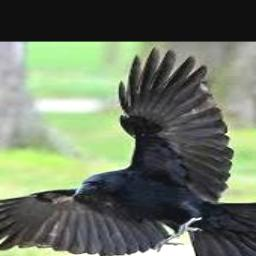Crow: (0, 47, 256, 256)
